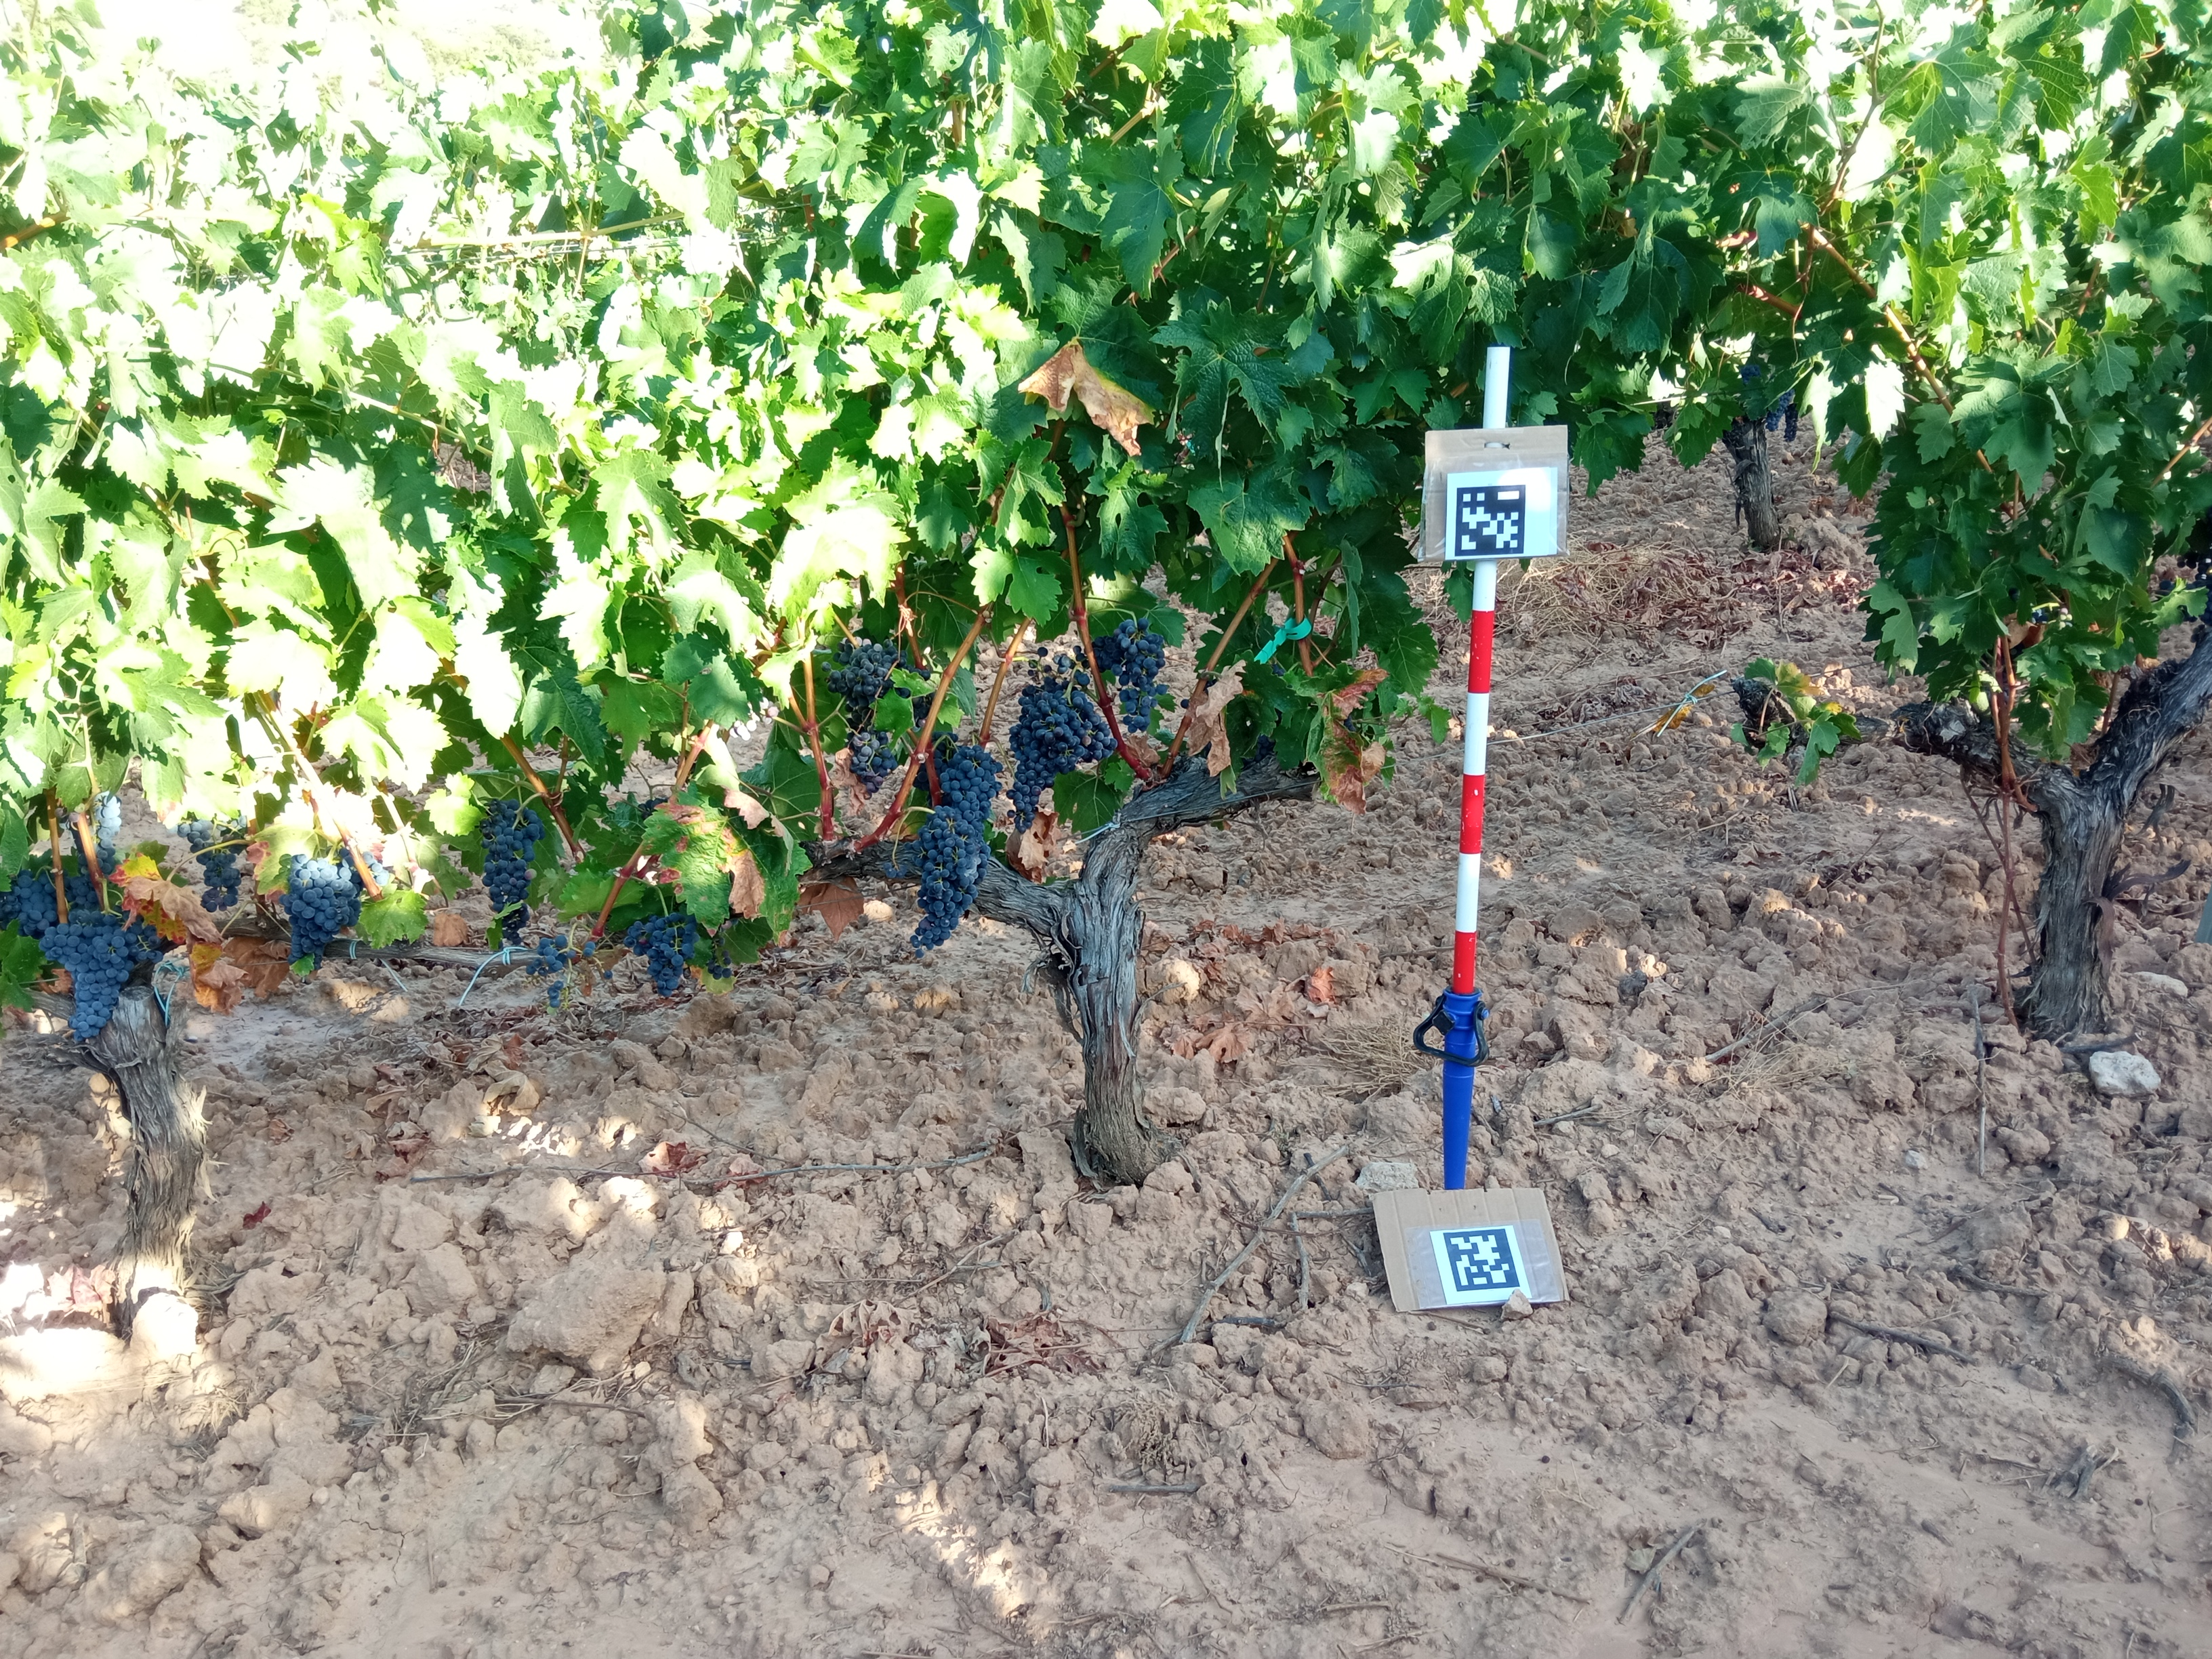grapes: (906, 735, 1001, 955), (1008, 676, 1116, 849), (822, 634, 920, 795), (40, 911, 160, 1040), (1082, 619, 1170, 734), (279, 850, 362, 969), (481, 798, 533, 945), (178, 817, 244, 910), (625, 913, 693, 997), (533, 938, 597, 1011), (2, 868, 56, 931), (92, 789, 122, 871), (705, 938, 733, 979), (66, 871, 98, 906), (364, 852, 394, 882)
